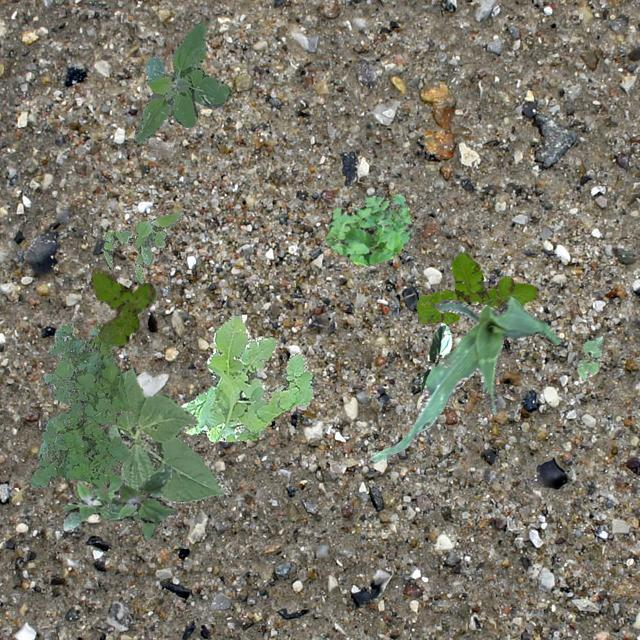crop: (370, 296, 558, 460), (106, 367, 232, 502), (418, 322, 451, 392), (576, 334, 604, 381)
weed: (30, 322, 136, 512), (178, 312, 312, 441), (134, 22, 232, 142), (416, 252, 538, 322), (324, 192, 410, 266), (100, 210, 182, 284), (90, 266, 154, 344), (118, 464, 176, 540), (61, 478, 141, 530)
